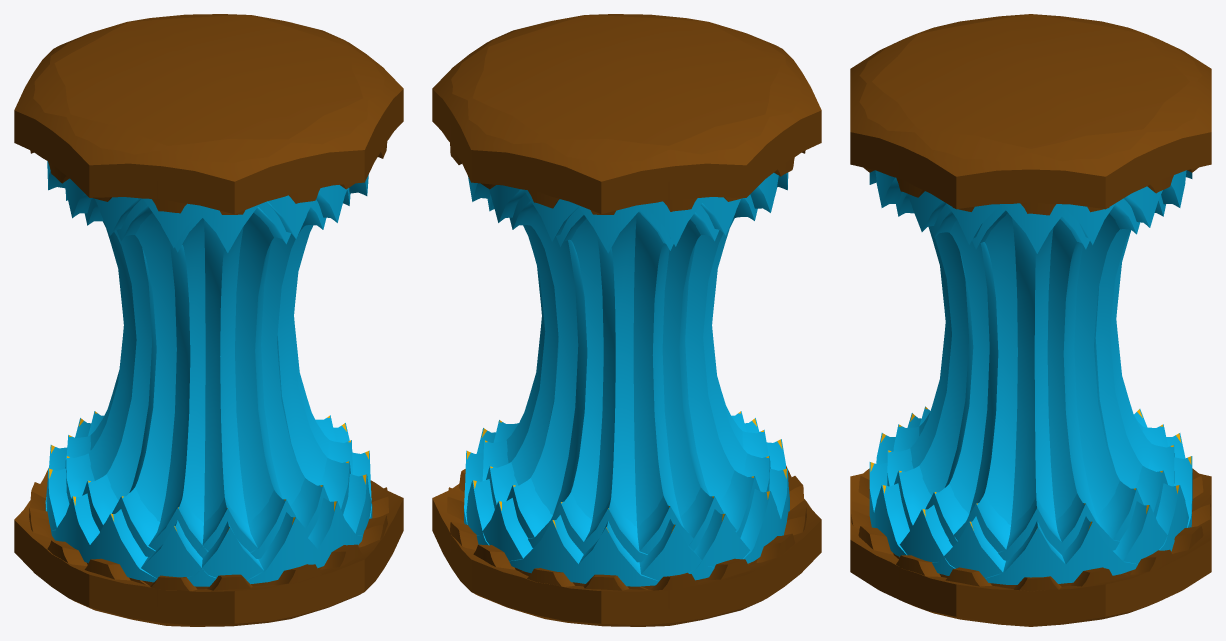
File: Glasshour Opaque.gltf
3 views of the same model, side by side, from view 1: azimuth 30°, elevation 25°; view 2: azimuth 150°, elevation 25°; view 3: azimuth 270°, elevation 25° (orthographic).
Visible parts, largest first — view 1: Glass, Frame; view 2: Glass, Frame; view 3: Glass, Frame.
Part boxes in pixels (box(x1,y1,x2,y2)): Glass: box(45, 161, 372, 586); Frame: box(14, 14, 403, 626); Glass: box(464, 172, 789, 586); Frame: box(432, 14, 821, 626); Glass: box(869, 170, 1192, 584); Frame: box(850, 14, 1211, 626).
Bounding box in the file's own units: 2 × 3.1 × 2.
